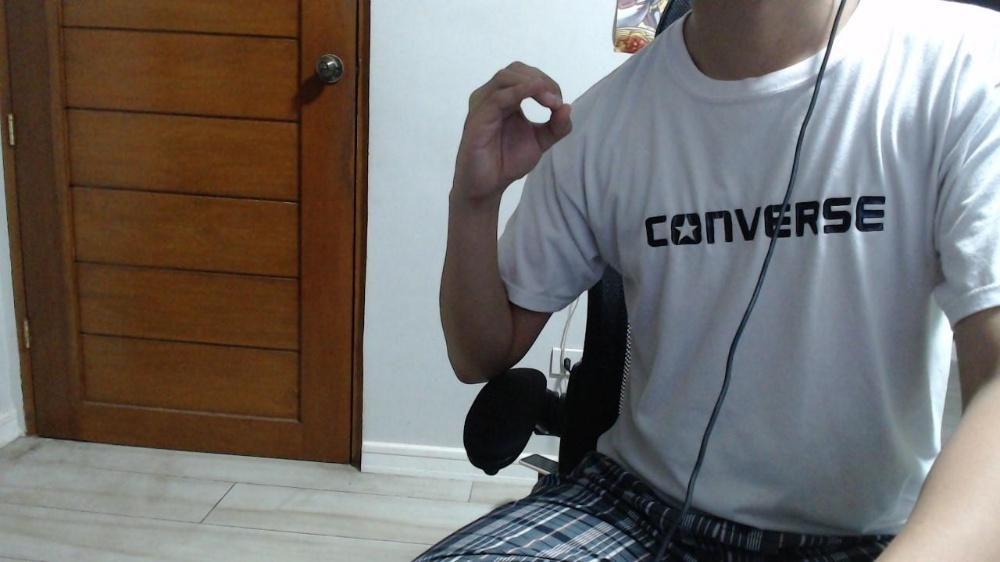o: (459, 59, 571, 188)
